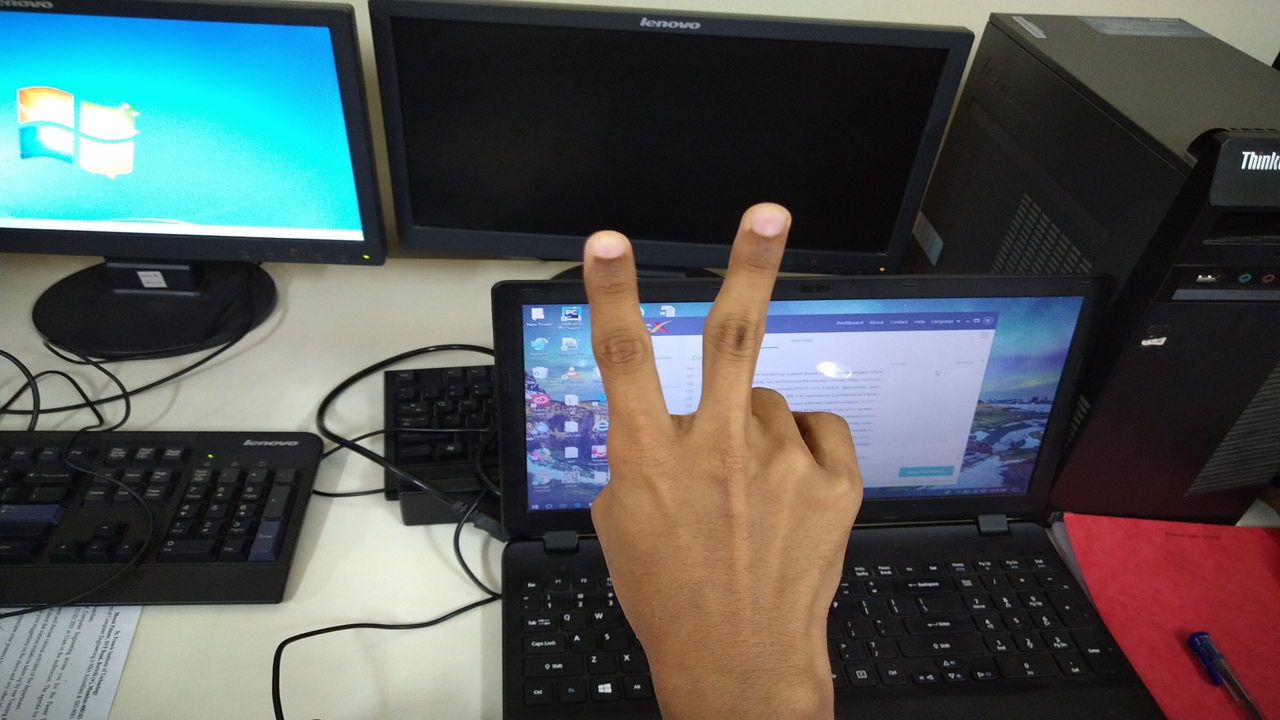fingertip: (734, 198, 794, 254), (580, 226, 638, 282)
